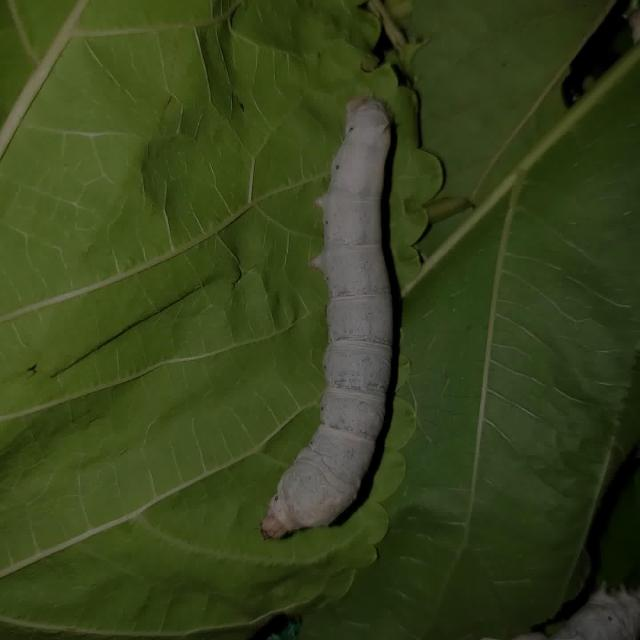Healthy: (233, 59, 456, 562)
